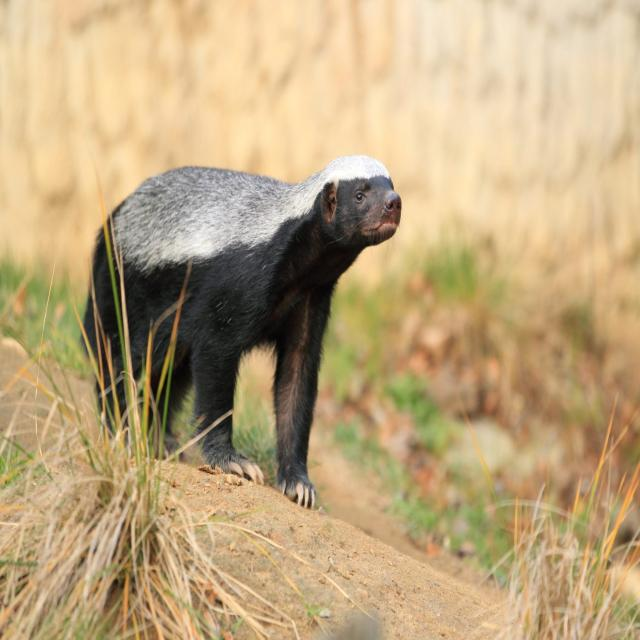Badger: (90, 147, 409, 512)
